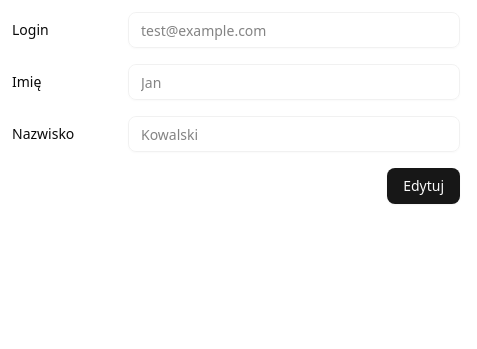
Test: Komponent UserProfile › wyświetla błędy walidacji dla nieprawidłowego hasła
Click the button "Edytuj": (424, 186) [387,168,460,204]
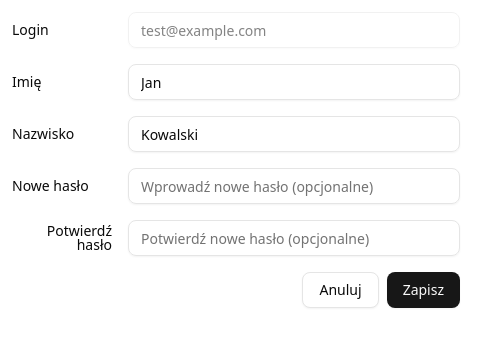
In the password field labelled "Nowe hasło": (294, 186) [128,168,460,204], type "short"
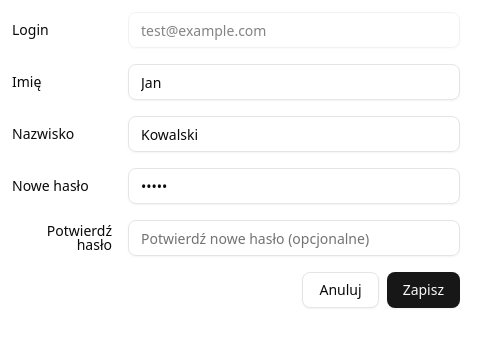
In the password field labelled "Potwierdź hasło": (294, 238) [128,220,460,256], type "short"
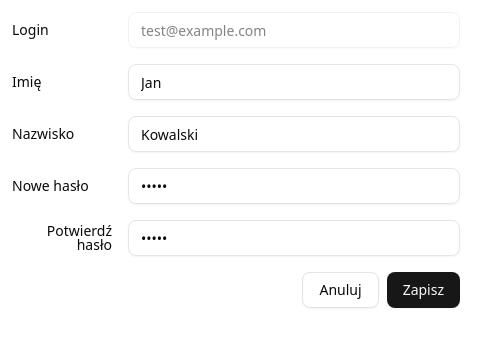
Click the button "Zapisz": (423, 290) [387,272,460,308]
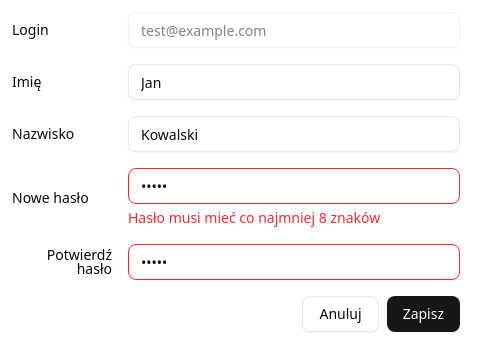
Expected: the text "Hasło musi mieć co najmniej 8 znaków" is shown, [128,208,380,227]
